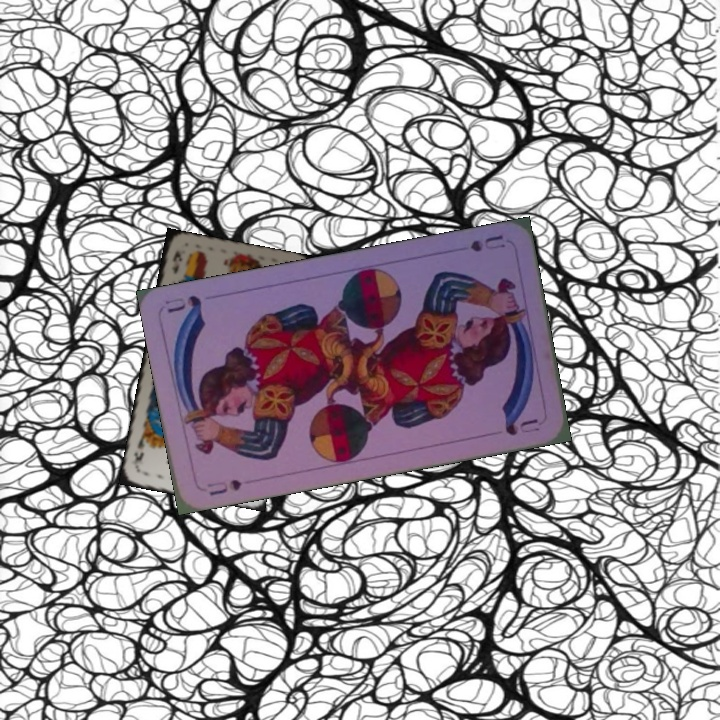EK: (168, 246, 185, 277)
SU: (466, 231, 508, 255), (205, 475, 244, 498)
